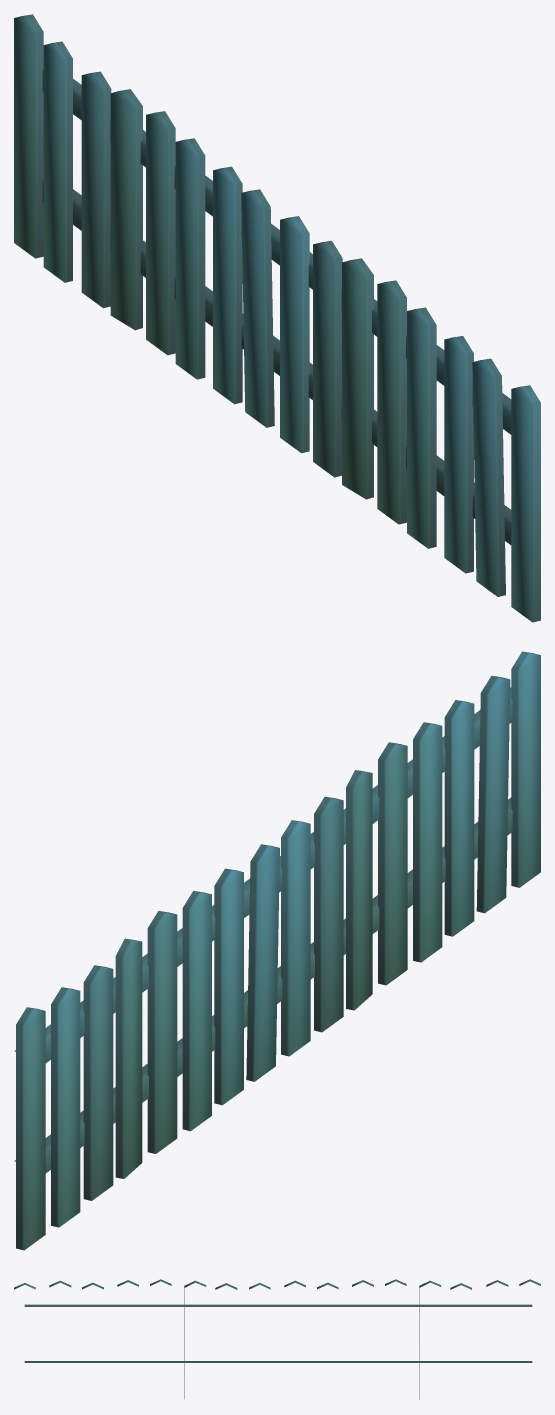
The model's file is WoodFence01Night.glb.
The picture shows the model from 3 angles, top to bottom: view 1: azimuth 30°, elevation 25°; view 2: azimuth 150°, elevation 25°; view 3: azimuth 270°, elevation 25°; orthographic projection. The views are drawn at different scales.
Visible parts, largest first — view 1: WoodFence01Night; view 2: WoodFence01Night; view 3: WoodFence01Night.
Boxes of the visible parts, x1=… form: WoodFence01Night: x1=14, y1=14, x2=540, y2=622; WoodFence01Night: x1=14, y1=651, x2=540, y2=1250; WoodFence01Night: x1=14, y1=1279, x2=540, y2=1399.
Bounding box in the file's own units: 0.2173 × 2.14 × 8.57.
